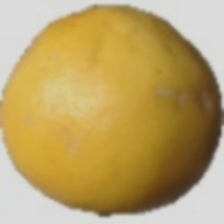grapes: (24, 40, 176, 193)
